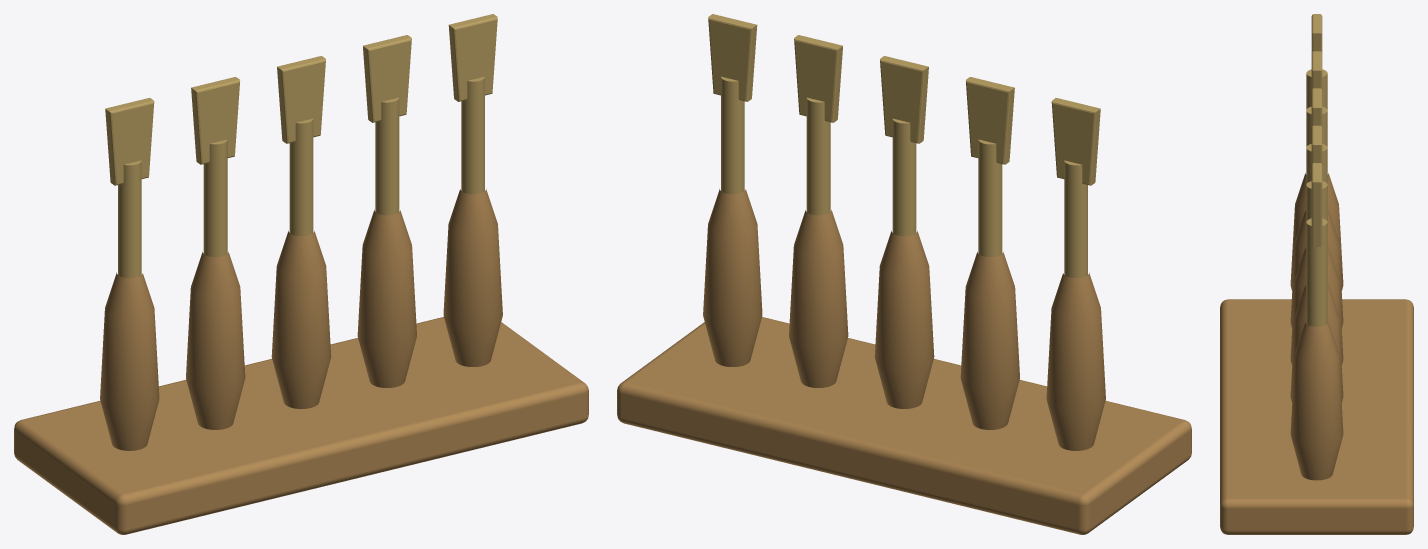
The model's file is abandoned-puppet-theatre-and-prop-vault-carving-gouge--f74a82a3__31091.glb.
3 views of the same model, side by side, from view 1: azimuth 30°, elevation 25°; view 2: azimuth 150°, elevation 25°; view 3: azimuth 270°, elevation 25° (orthographic). The views are drawn at different scales.
Visible parts, largest first — view 1: carving-gouge-rack; view 2: carving-gouge-rack; view 3: carving-gouge-rack.
Part boxes in pixels (<box>): carving-gouge-rack: <box>14,14,588,534</box>; carving-gouge-rack: <box>617,14,1191,534</box>; carving-gouge-rack: <box>1220,14,1413,534</box>.
Size of the model in its own units: 0.55 by 0.4219 by 0.22.
